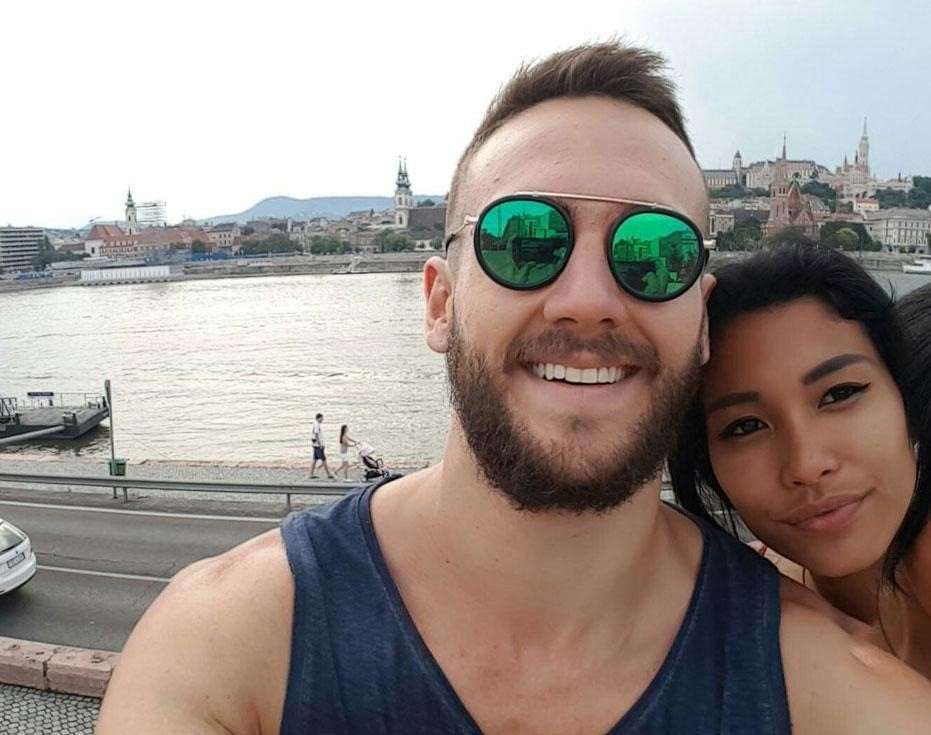face_no_mask: (448, 80, 709, 531), (710, 240, 926, 572)
